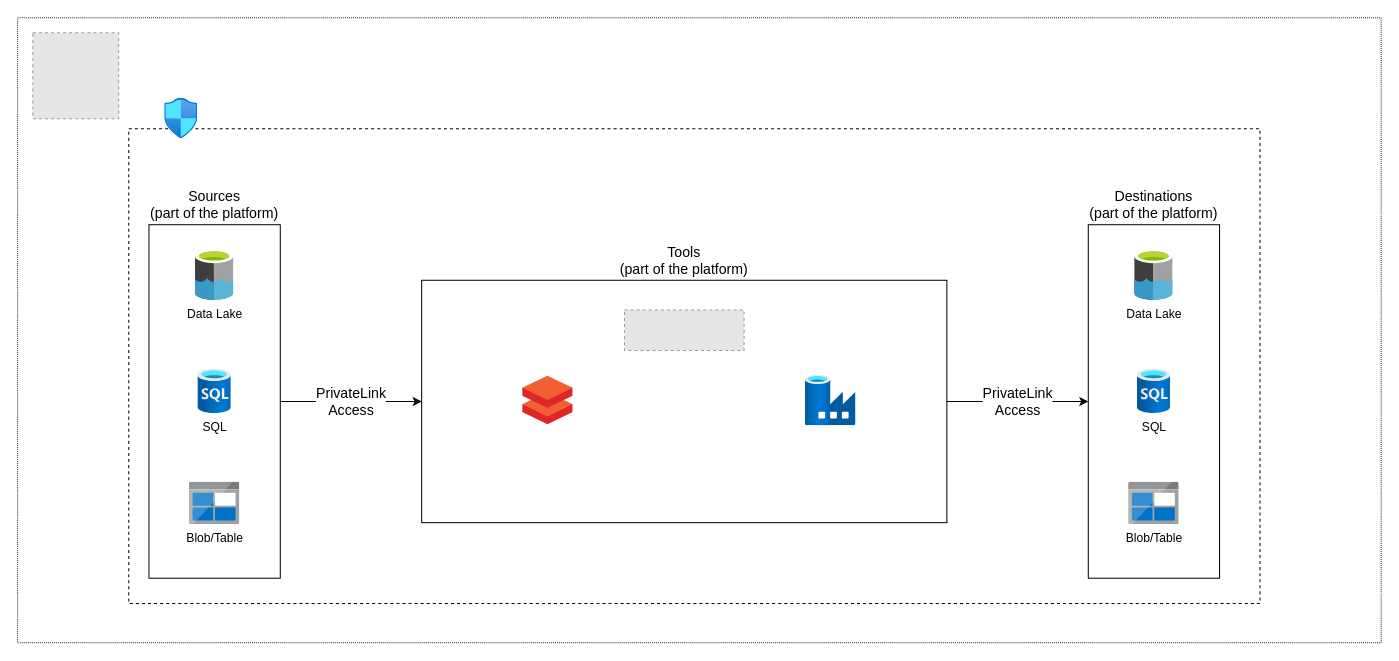
Some shapes in this 1399 by 661 pixel diagram are drawn without their labels. Grey dashed boxes stand in for pictures. Here are the shapes that lost their labels. From the top down, the centre of each, then its label:
At (x=180, y=118): "Isolated Azure Network".
At (x=547, y=400): "Databricks".
At (x=830, y=400): "Data Factory".
